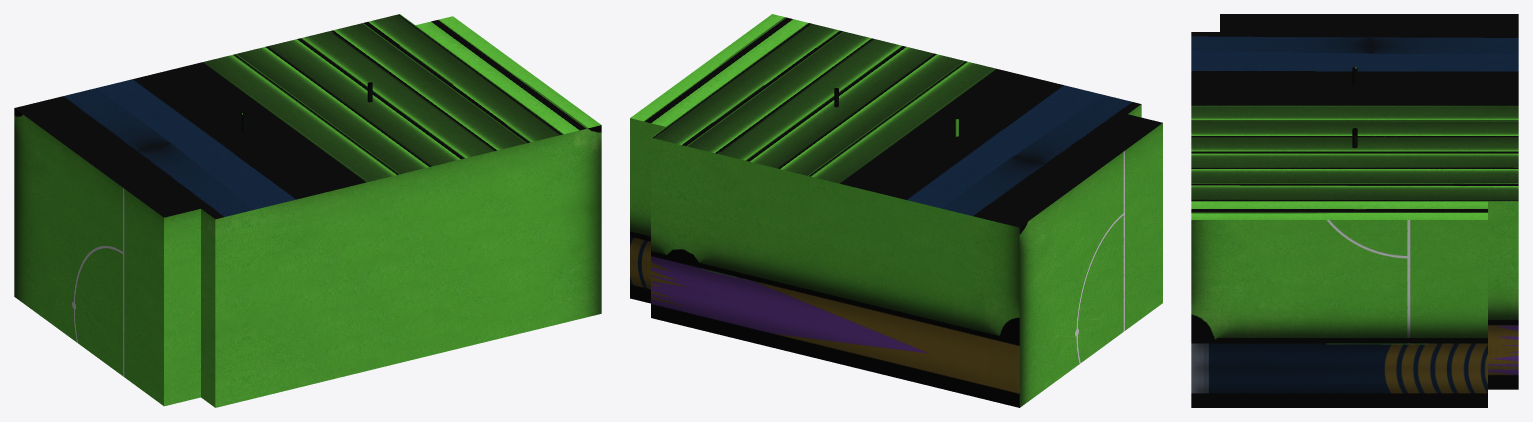
Rendered from room.fbx.
3 renders of one model, left to right at view 1: azimuth 30°, elevation 25°; view 2: azimuth 150°, elevation 25°; view 3: azimuth 270°, elevation 25°, orthographic. The views are drawn at different scales.
Visible parts, largest first — view 1: polymsh5; view 2: polymsh5; view 3: polymsh5.
Part boxes in pixels (x1=…): polymsh5: x1=14, y1=14, x2=601, y2=407; polymsh5: x1=630, y1=14, x2=1162, y2=407; polymsh5: x1=1191, y1=14, x2=1518, y2=407.
Bounding box in the file's own units: 20.19 × 9.43 × 13.58.
